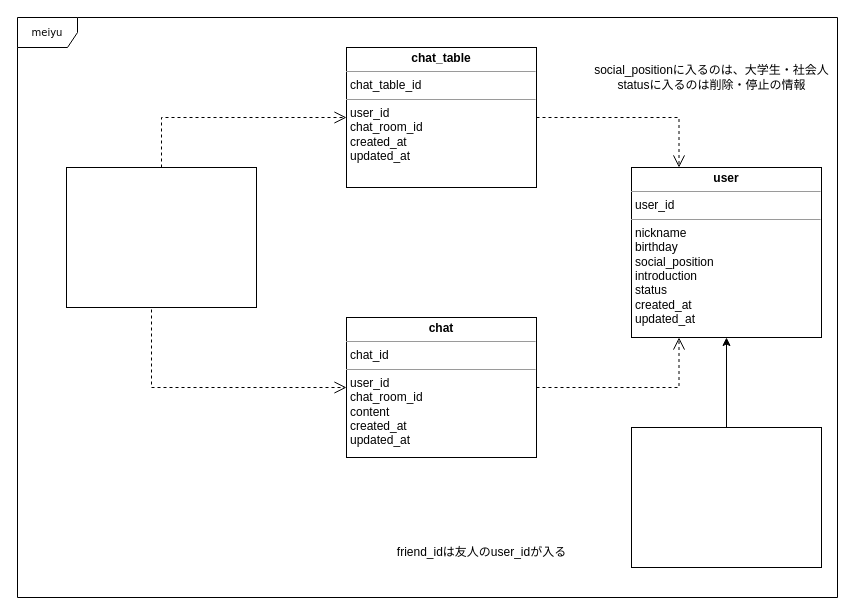
This 855x615 diagram has some shape labels left out. The shapes that lost their labels are listed below. From the top down, each one's box as (x1, y1, x2, y2) in pixels, then its label:
(66, 166, 256, 308): chat_room chat_room_id chat_room_name created_at updated_at
(630, 426, 822, 568): friend_table friend_table_id user_id friend_id created_at updated_at
